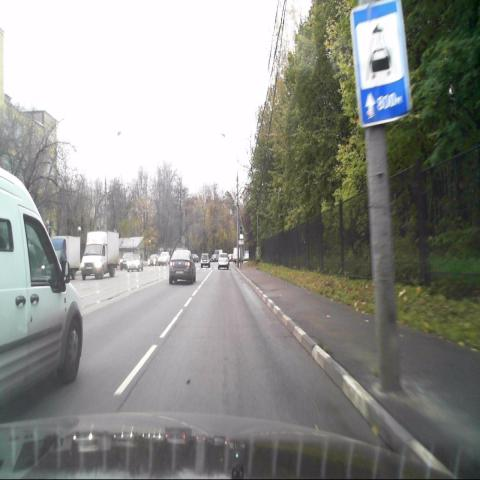7_5: (350, 1, 412, 130)
